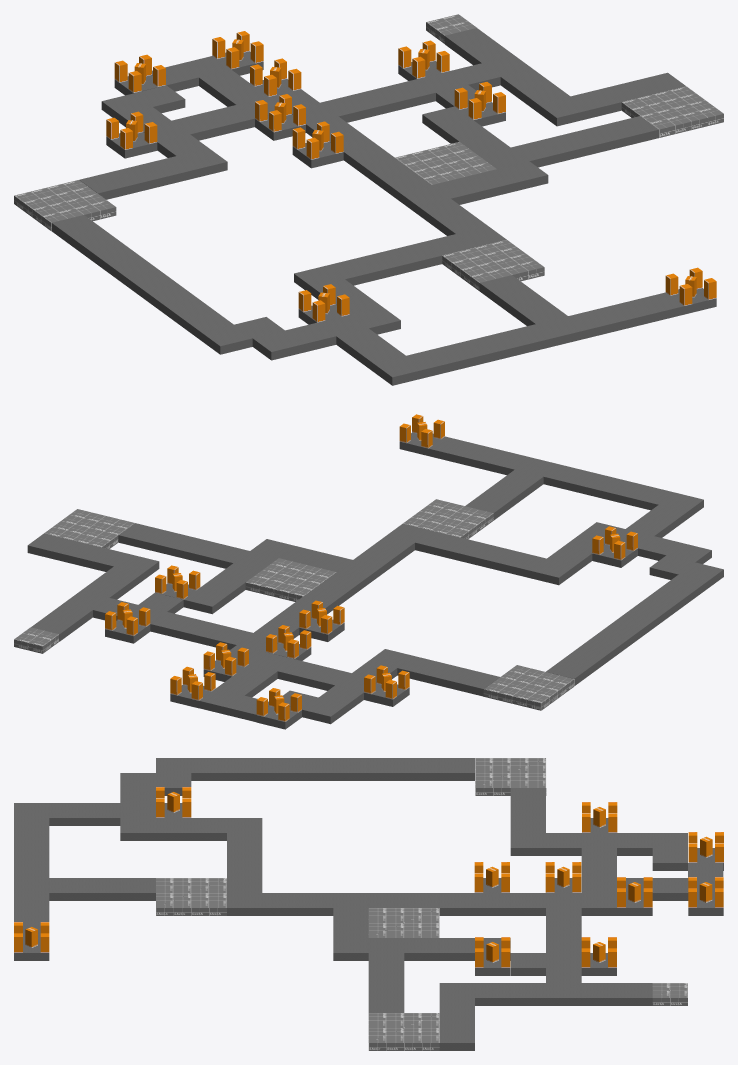
The model's file is testLevel.glb.
3 renders of one model, top to bottom at view 1: azimuth 30°, elevation 25°; view 2: azimuth 150°, elevation 25°; view 3: azimuth 270°, elevation 25°, orthographic. The views are drawn at different scales.
Parts seen in each view (by area): view 1: entity0_brush52, entity0_brush27, entity0_brush26, entity0_brush25, entity0_brush135, entity0_brush102, entity0_brush103, entity0_brush101, entity0_brush84, entity0_brush88, entity0_brush127, entity0_brush145 (+73 smaller); view 2: entity0_brush27, entity0_brush25, entity0_brush26, entity0_brush52, entity0_brush90, entity0_brush111, entity0_brush12, entity0_brush105, entity0_brush81, entity0_brush98, entity0_brush73, entity0_brush150 (+62 smaller); view 3: entity0_brush52, entity0_brush26, entity0_brush27, entity0_brush25, entity0_brush69, entity0_brush121, entity0_brush147, entity0_brush12, entity0_brush68, entity0_brush70, entity0_brush71, entity0_brush76 (+77 smaller).
Part boxes in pixels (x1,y1,x2,y2): entity0_brush52: (621,86,723,137); entity0_brush27: (14,179,116,231); entity0_brush26: (442,240,544,290); entity0_brush25: (395,142,496,184); entity0_brush135: (538,96,589,126); entity0_brush102: (252,330,303,360); entity0_brush103: (373,356,424,385); entity0_brush101: (201,324,252,354); entity0_brush84: (633,292,684,322); entity0_brush88: (497,161,548,191); entity0_brush127: (391,242,442,271); entity0_brush145: (144,156,195,185); entity0_brush27: (483,665,574,710); entity0_brush25: (245,558,335,601); entity0_brush26: (403,499,493,539); entity0_brush52: (44,509,134,548); entity0_brush90: (530,558,575,585); entity0_brush111: (302,697,347,724); entity0_brush12: (14,627,59,653); entity0_brush105: (183,587,228,614); entity0_brush81: (27,533,72,559); entity0_brush98: (277,659,322,685); entity0_brush73: (150,612,195,638); entity0_brush150: (501,551,546,577); entity0_brush52: (368,1013,439,1050); entity0_brush26: (156,878,226,915); entity0_brush27: (475,758,546,795); entity0_brush25: (368,908,439,937); entity0_brush69: (297,893,333,915); entity0_brush121: (297,758,333,780); entity0_brush147: (368,758,404,780); entity0_brush12: (652,983,687,1005); entity0_brush68: (617,833,652,855); entity0_brush70: (191,758,226,780); entity0_brush71: (49,803,84,825); entity0_brush76: (510,953,545,975).
Size of the model in its own units: 2433 by 96 by 2562.
Materials: 3 (3 with a texture image).
